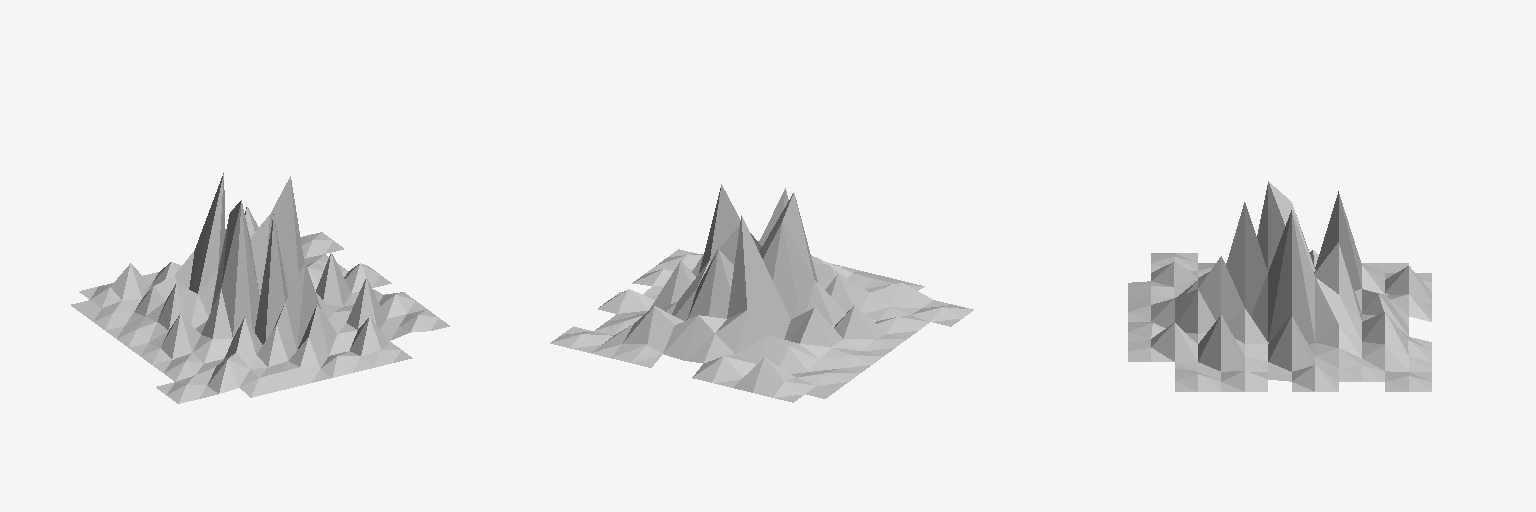
File: CampFire.obj
The picture shows the model from 3 angles: view 1: azimuth 30°, elevation 25°; view 2: azimuth 150°, elevation 25°; view 3: azimuth 270°, elevation 25°; orthographic projection.
Visible parts, largest first — view 1: Grid.001; view 2: Grid.001; view 3: Grid.001.
Boxes of the visible parts, box(x1,y1,x2,y2) form: Grid.001: box(71, 173, 449, 403); Grid.001: box(550, 184, 973, 402); Grid.001: box(1128, 181, 1431, 391).
Size of the model in its own units: 1.56 by 0.6944 by 1.44.